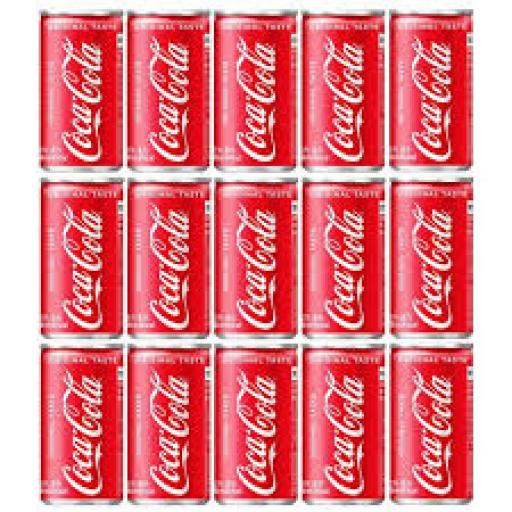Coca: (32, 2, 126, 172), (122, 0, 213, 172), (296, 6, 388, 174), (383, 342, 474, 504), (214, 338, 300, 508), (387, 11, 477, 173), (38, 341, 124, 509), (302, 342, 388, 508), (36, 179, 124, 341), (388, 178, 473, 343), (303, 174, 387, 340), (217, 0, 297, 173), (126, 176, 210, 338), (128, 342, 211, 505), (218, 175, 297, 341)
